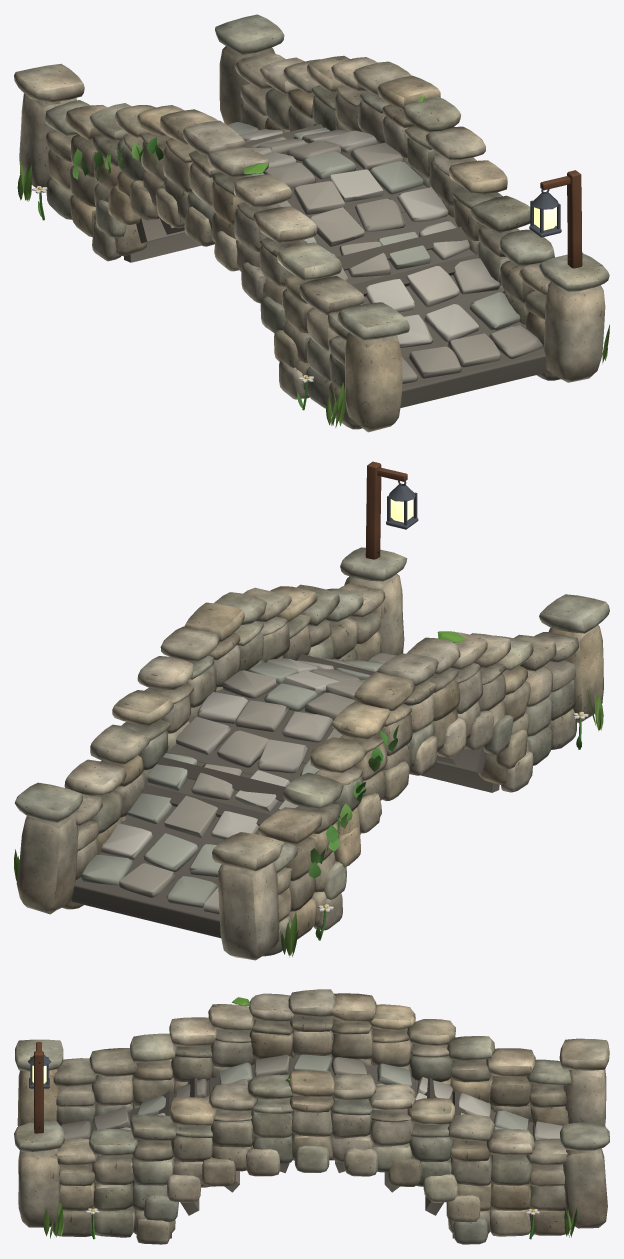
File: bridge.gltf
The picture shows the model from 3 angles, top to bottom: view 1: azimuth 30°, elevation 25°; view 2: azimuth 150°, elevation 25°; view 3: azimuth 270°, elevation 25°; orthographic projection. The views are drawn at different scales.
Parts seen in each view (by area): view 1: Stones, Bridge; view 2: Stones, Bridge; view 3: Stones, Bridge.
Part boxes in pixels (bbox=[...]): Stones: bbox=[14, 14, 609, 432]; Bridge: bbox=[17, 96, 609, 427]; Stones: bbox=[15, 547, 609, 960]; Bridge: bbox=[14, 461, 603, 957]; Stones: bbox=[14, 989, 609, 1244]; Bridge: bbox=[27, 997, 577, 1239].
Bounding box in the file's own units: 2.87 × 2.1 × 6.01.
22 materials, 1 textured.
